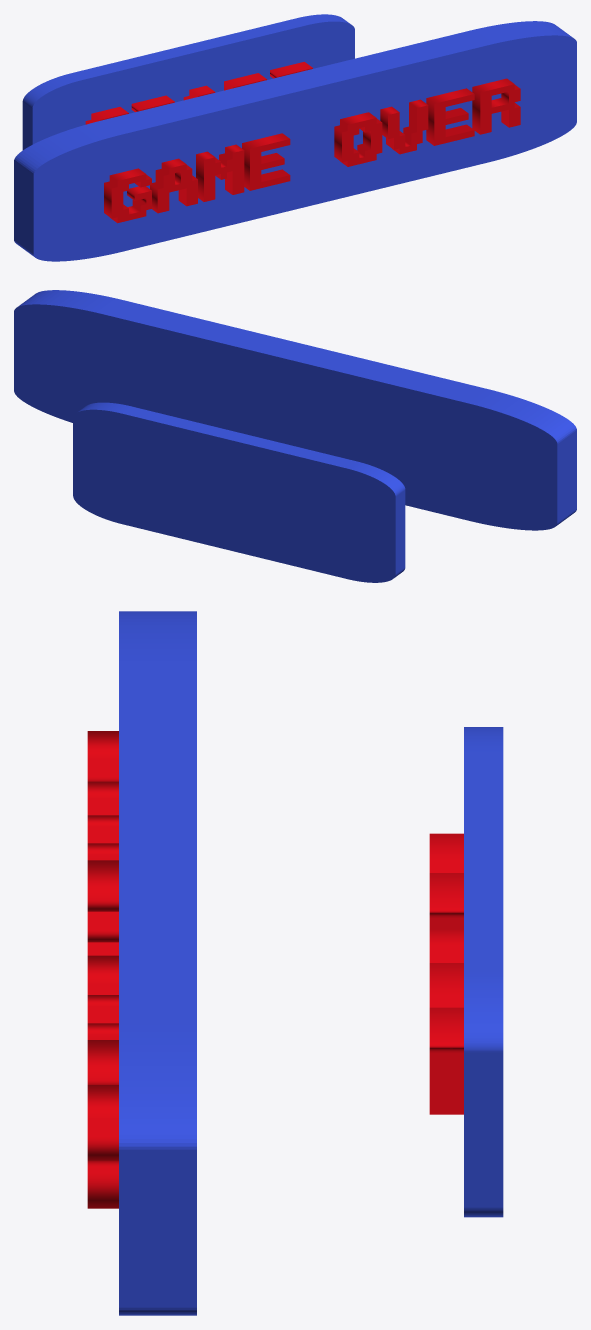
File: buttons.gltf
The picture shows the model from 3 angles, top to bottom: view 1: azimuth 30°, elevation 25°; view 2: azimuth 150°, elevation 25°; view 3: azimuth 270°, elevation 25°; orthographic projection. The views are drawn at different scales.
Parts seen in each view (by area): view 1: gameOver, start; view 2: gameOver, start; view 3: gameOver, start.
Boxes of the visible parts, left/top/right/bottom form: gameOver: left=14, top=21, right=576, bottom=261; start: left=22, top=14, right=354, bottom=150; gameOver: left=14, top=290, right=576, bottom=530; start: left=73, top=402, right=405, bottom=582; gameOver: left=87, top=611, right=196, bottom=1315; start: left=429, top=727, right=503, bottom=1217.
Bounding box in the file's own units: 13.48 × 3.09 × 4.46.
